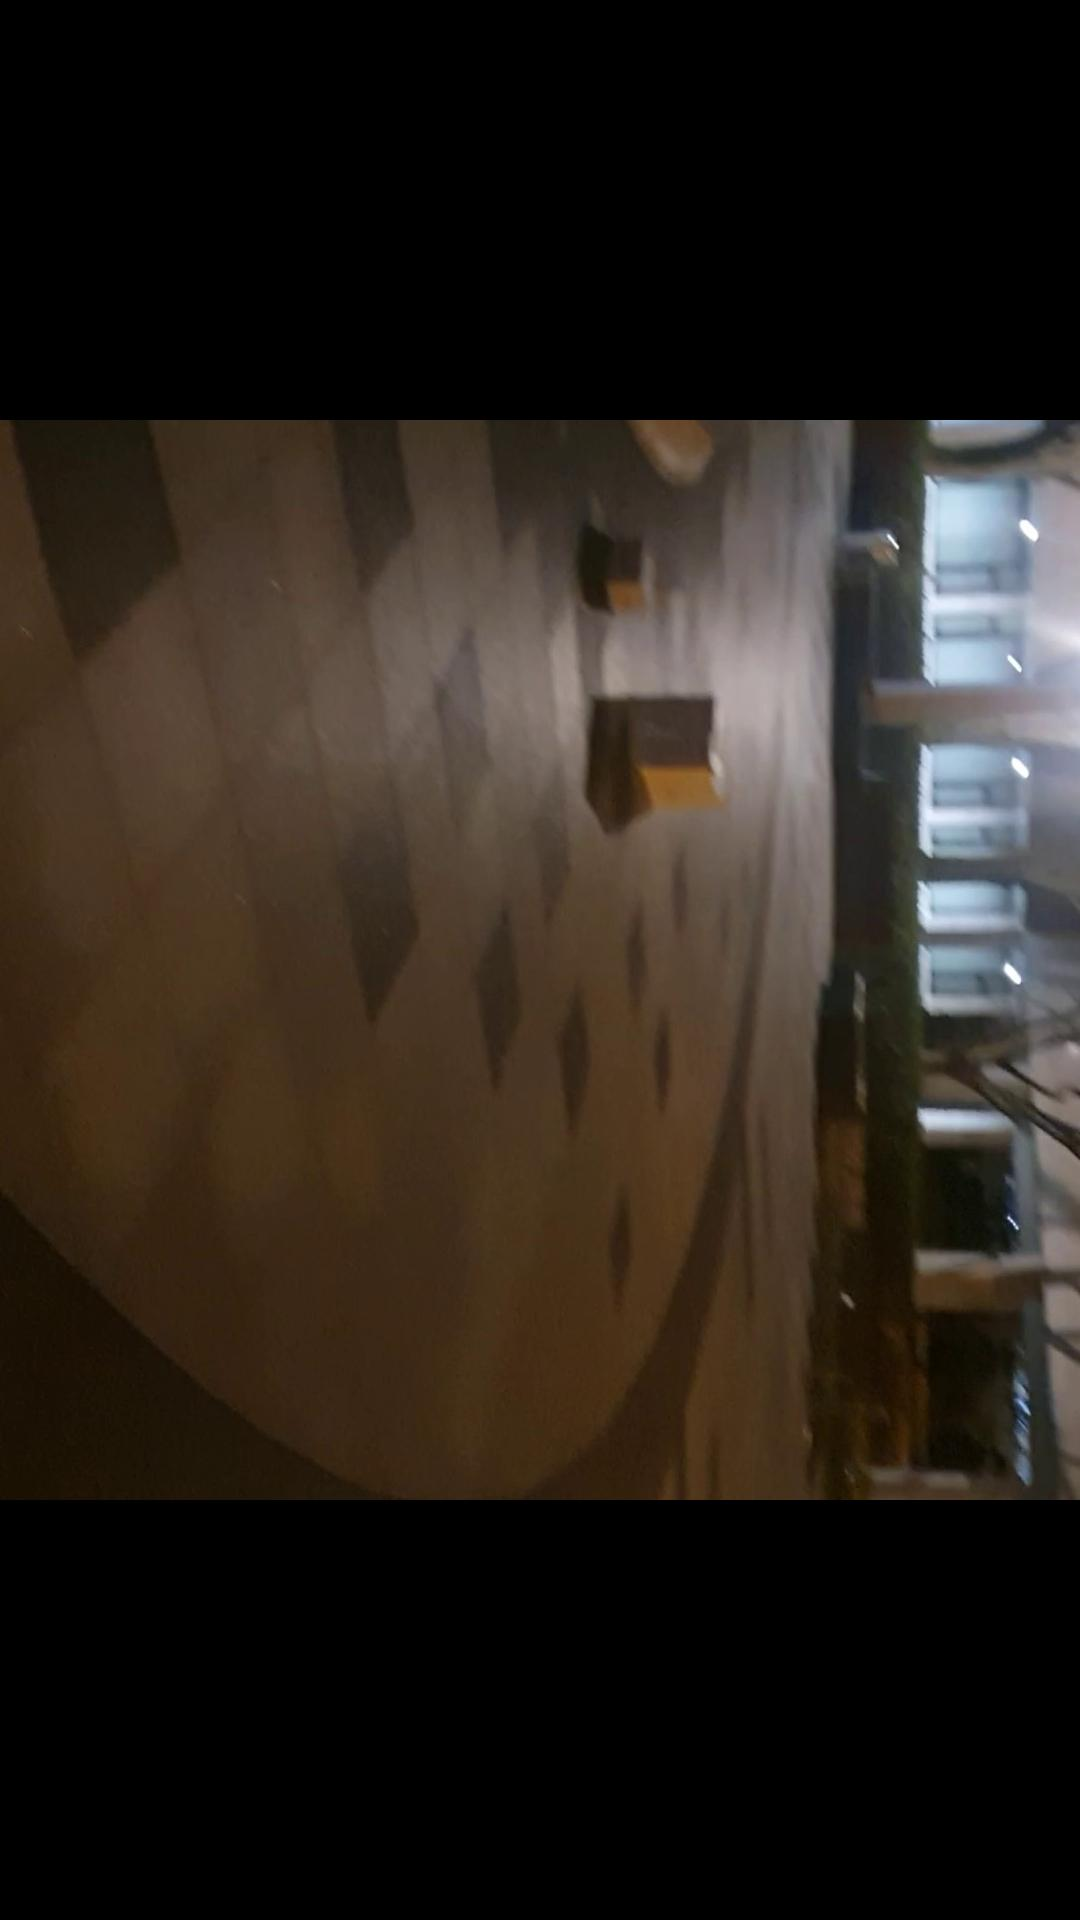Box: (630, 686, 740, 810), (585, 527, 667, 620)
